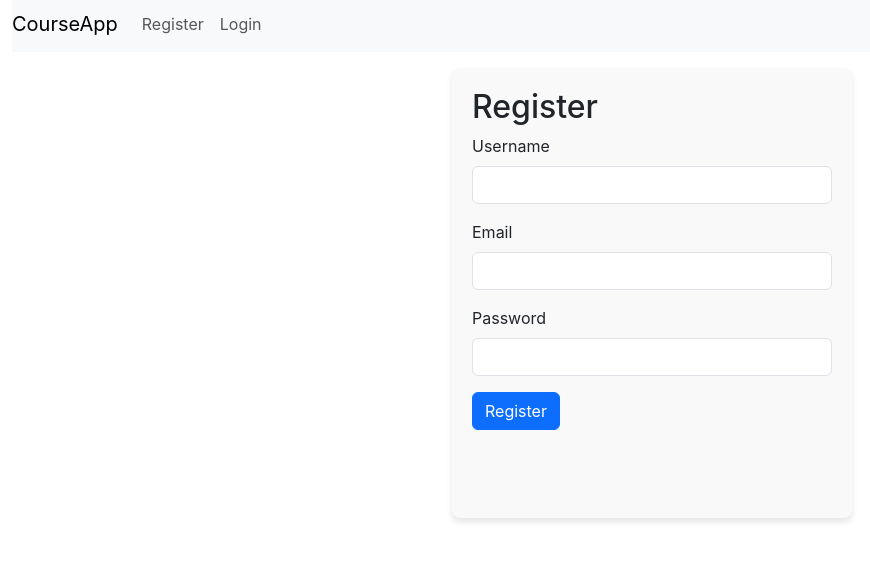
Test case: User Registration › should show error on duplicate email
This screenshot has width=870, height=562.
Type "newuser" into the field with id "username" at (652,185), box [472,166,832,204]
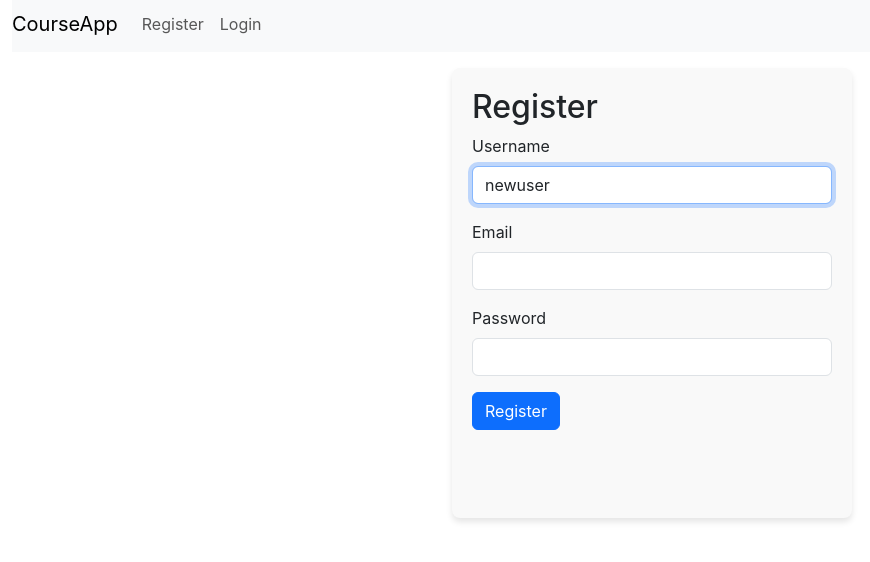
Type "newuser@example.com" into the field with id "email" at (652,271), box [472,252,832,290]
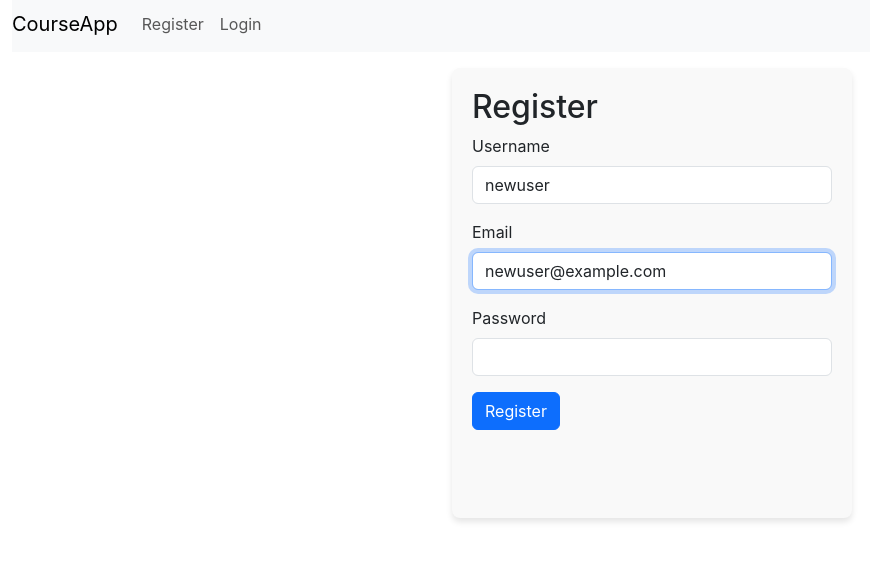
Type "password123" into the password field labelled "Password" at (652,357), box [472,338,832,376]
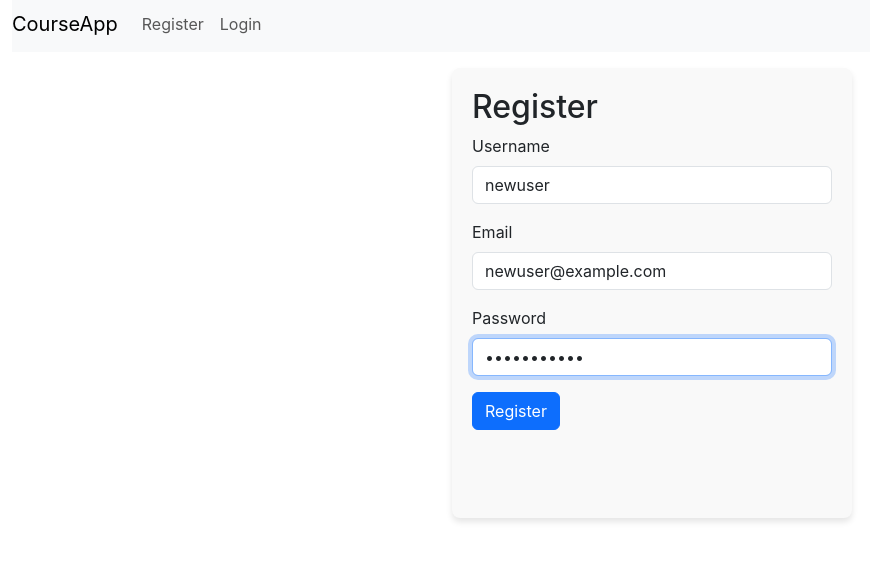
Click the submit button at (516,411), box [472,392,560,430]
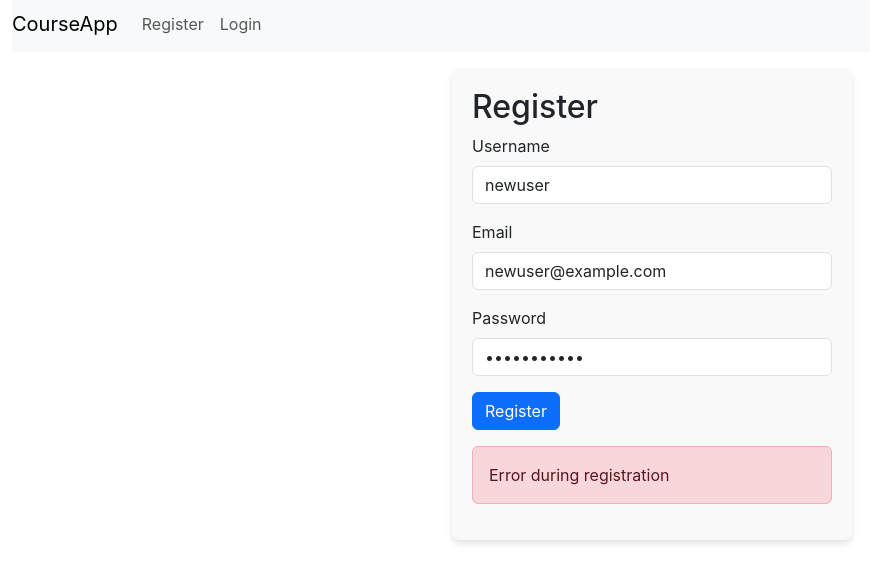
Expected: the text "Error during registration" is shown, [472,446,832,504]
